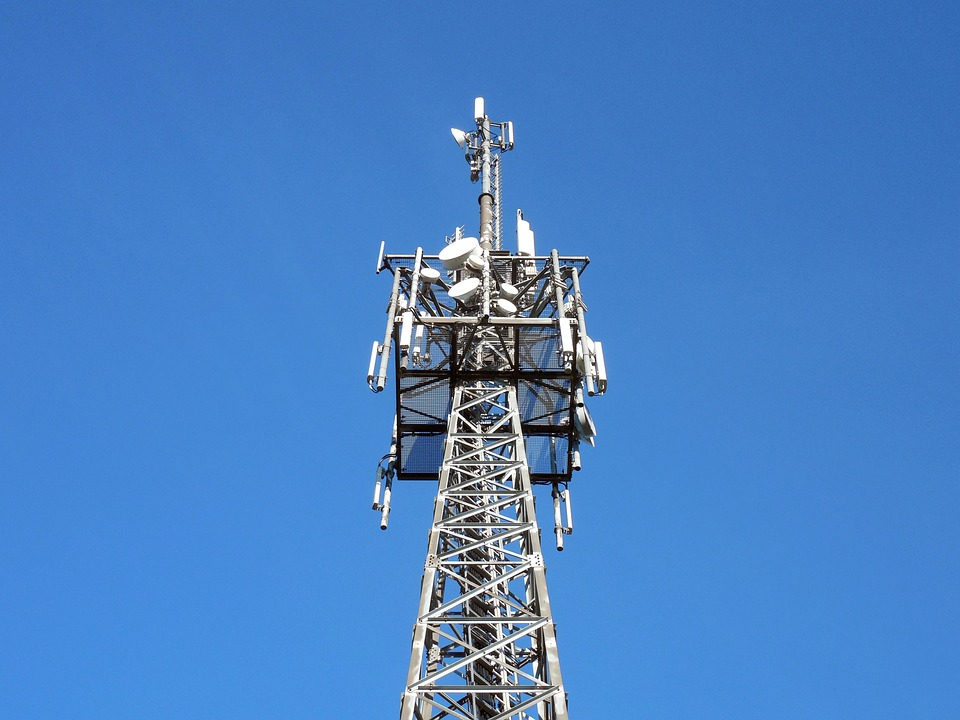a: (591, 340, 608, 395)
b: (438, 237, 482, 269), (447, 277, 480, 302), (493, 296, 517, 316), (500, 280, 520, 299)
